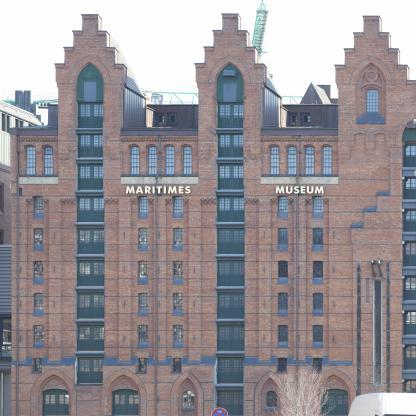Building Outline: (9, 13, 416, 416)
Deco: (121, 177, 199, 185), (261, 177, 339, 185), (126, 186, 191, 194), (275, 186, 324, 194), (19, 177, 58, 185)
Facade: (12, 128, 402, 416)
Floor: (12, 192, 402, 225), (12, 289, 402, 322), (12, 354, 402, 386), (12, 322, 402, 354), (12, 257, 402, 289), (12, 225, 402, 257), (12, 386, 402, 415), (262, 131, 402, 193), (122, 131, 199, 193), (12, 135, 59, 192), (199, 161, 262, 193), (59, 161, 122, 193), (122, 106, 199, 131), (262, 106, 339, 131), (59, 131, 122, 161), (199, 131, 262, 161)
Floor Slab: (12, 351, 402, 354), (12, 319, 402, 322), (12, 286, 402, 289), (12, 254, 402, 257), (12, 222, 402, 225), (12, 190, 402, 193), (12, 383, 402, 386), (12, 413, 402, 416), (59, 128, 401, 131), (59, 158, 122, 161), (198, 158, 261, 161)
Molding: (121, 135, 198, 141), (261, 135, 338, 141), (19, 135, 58, 142)
Top Floor: (59, 64, 122, 131), (199, 64, 262, 131), (339, 65, 402, 131)
Window: (356, 62, 386, 124), (317, 375, 351, 416), (107, 375, 141, 416), (38, 375, 71, 416), (177, 378, 198, 416), (260, 378, 281, 416), (321, 389, 348, 416), (217, 228, 245, 254), (217, 325, 245, 351), (111, 389, 139, 415), (374, 280, 381, 384), (78, 196, 105, 222), (78, 293, 105, 319), (218, 196, 245, 222), (218, 260, 245, 286), (218, 293, 245, 319), (217, 357, 244, 383), (42, 389, 69, 415), (77, 261, 105, 286), (77, 164, 103, 190), (78, 229, 105, 254), (78, 326, 105, 351), (79, 102, 104, 128), (78, 358, 104, 383), (218, 391, 244, 416), (219, 103, 244, 128), (218, 164, 243, 189), (78, 134, 103, 158), (218, 133, 243, 157), (366, 89, 378, 112), (44, 146, 53, 175), (26, 146, 35, 175), (305, 146, 314, 174), (270, 146, 279, 174), (183, 146, 192, 174), (148, 146, 157, 174), (130, 146, 139, 174), (323, 146, 331, 174), (288, 146, 296, 174), (166, 146, 174, 174), (182, 391, 194, 407), (265, 391, 277, 407), (313, 196, 323, 213), (278, 196, 288, 213), (313, 228, 323, 245), (278, 228, 288, 245), (313, 261, 323, 278), (278, 261, 288, 278), (313, 293, 323, 310), (278, 293, 288, 310), (313, 325, 323, 342), (278, 325, 288, 342), (34, 196, 44, 213), (34, 228, 44, 245), (34, 261, 44, 278), (34, 293, 44, 310), (34, 325, 44, 342), (173, 196, 183, 213), (173, 228, 183, 245), (173, 261, 183, 278), (173, 293, 183, 310), (173, 325, 183, 342), (139, 196, 148, 213), (139, 228, 148, 245), (139, 261, 148, 278), (139, 293, 148, 310), (139, 325, 148, 342), (313, 358, 323, 371), (278, 358, 288, 371), (173, 358, 183, 371), (167, 113, 177, 126), (288, 113, 298, 126), (300, 113, 310, 126), (34, 358, 43, 372), (139, 358, 148, 371), (155, 113, 164, 126)
dont: (337, 344, 409, 407), (265, 360, 337, 416), (348, 393, 416, 416), (211, 408, 228, 416)
